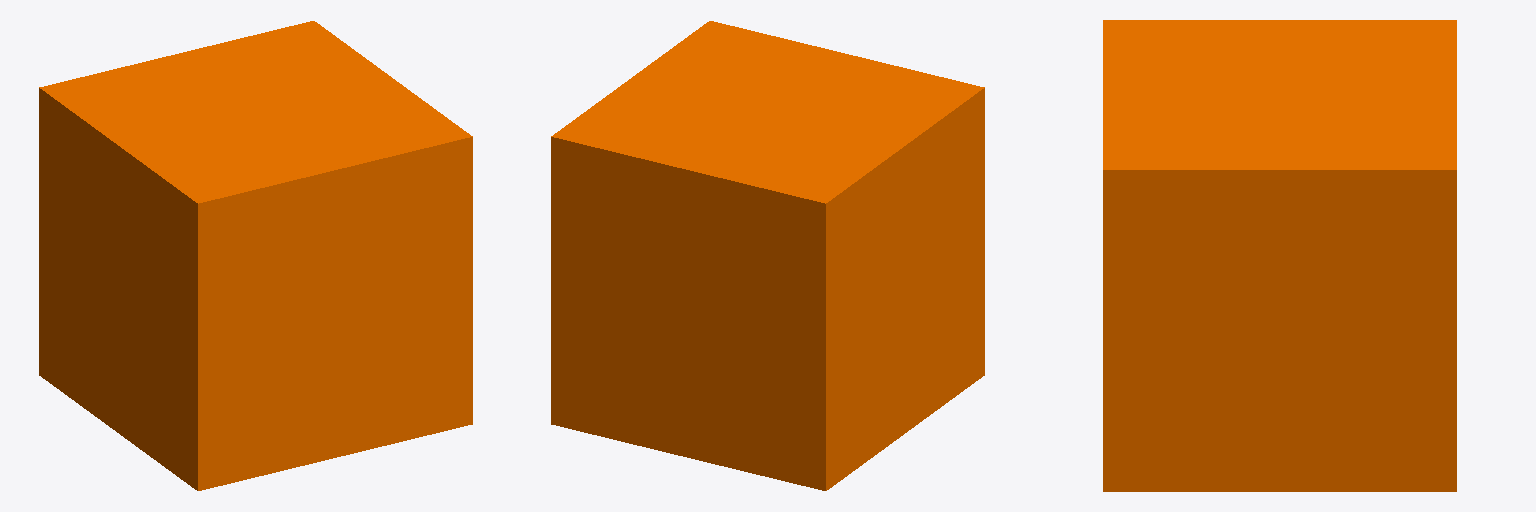
The robot description file, URDF, robot "block_2":
<?xml version="1.0"?>
<robot name="block_2">
  <link name="block_2_base_link">
    <contact>
      <lateral_friction value="0.4"/>
      <spinning_friction value="10.0"/>
    </contact>
    <inertial>
      <origin rpy="0 0 0" xyz="0 0 0"/>
      <mass value="1"/>
      <inertia ixx="1" ixy="0" ixz="0" iyy="1" iyz="0" izz="1"/>
    </inertial>
    <visual>
      <origin rpy="0 0 0" xyz="0.0 0.0 0.0"/>
      <geometry>
        <box size="0.04 0.04 0.04"/>
      </geometry>
      <material name="blockmat">
        <color rgba="1.0 0.5 0.0 1"/>
      </material>
    </visual>
    <collision>
      <origin rpy="0 0 0" xyz="0.0 0.0 0.0"/>
      <geometry>
        <box size="0.4 0.4 0.4"/>
      </geometry>
    </collision>
  </link>
</robot>

--- What the picture shows (computed from the rendered views, not written in the file) ---
3 views of the same robot in one strip: view 1: azimuth 30°, elevation 25°; view 2: azimuth 150°, elevation 25°; view 3: azimuth 270°, elevation 25° (orthographic).
Model block_2 with 1 links and 0 joints (none), rooted at block_2_base_link, posed every joint at zero.
Links seen in each view (by area): view 1: block_2_base_link; view 2: block_2_base_link; view 3: block_2_base_link.
Link boxes in pixels (x1,y1,x2,y2): block_2_base_link: [39, 21, 472, 490]; block_2_base_link: [551, 21, 984, 490]; block_2_base_link: [1103, 20, 1456, 491].
Bounding box of the posed robot: 0.04 × 0.04 × 0.04 m (x, y, z).
Geometry: primitives only (box / cylinder / sphere), no mesh files.
